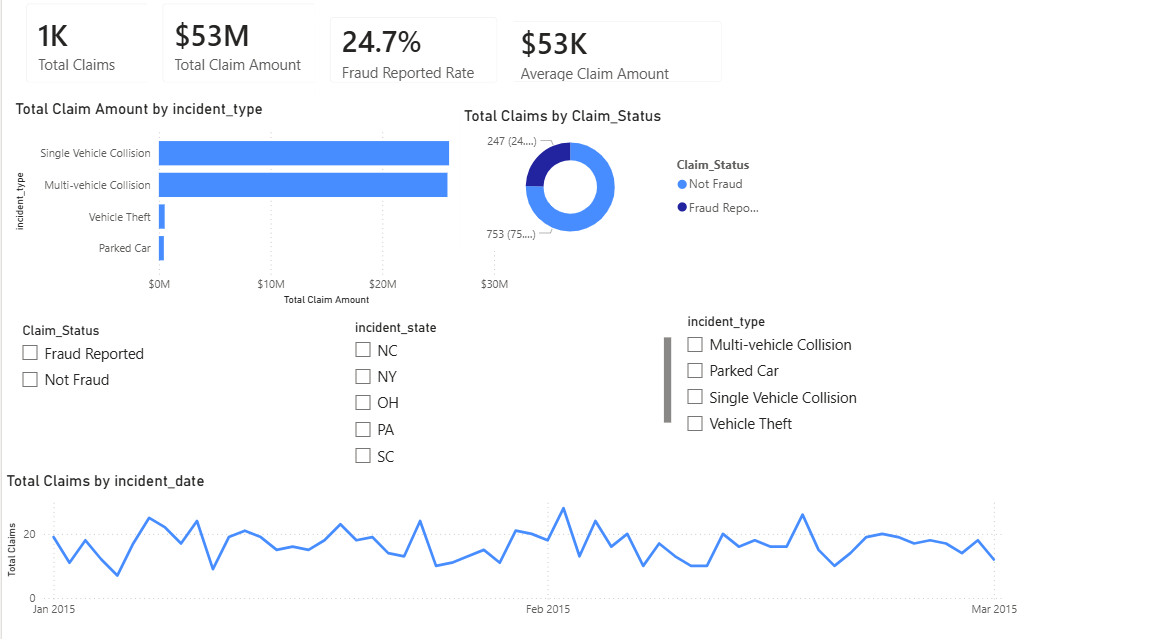

The page's visual inventory and layout, read from the dashboard file:
{"tool":"powerbi","page":{"name":"Executive Summary","canvas":[1280,720],"ordinal":0},"visuals":[{"type":"cardVisual","fields":{"Data":["Claims.Total Claims"]},"box":[10,0,171.2,121.2],"z":0},{"type":"cardVisual","fields":{"Data":["Claims.Total Claim Amount"]},"box":[158.8,0,206.2,121.2],"z":1000},{"type":"cardVisual","fields":{"Data":["Claims.Average Claim Amount"]},"box":[538.8,18.8,268.8,101.2],"z":2000},{"type":"cardVisual","fields":{"Data":["Claims.Fraud Reported Rate"]},"box":[342.5,15,218.8,106.2],"z":3000},{"type":"clusteredBarChart","fields":{"Category":["Claims.incident_type"],"Y":["Claims.Total Claim Amount"]},"box":[10,121.8,551.8,230.9],"z":4000},{"type":"donutChart","fields":{"Category":["Claims.Claim_Status"],"Y":["Claims.Total Claims"]},"box":[501.8,130,344.5,157.3],"z":5000},{"type":"lineChart","fields":{"Y":["Claims.Total Claims"],"Category":["Claims.incident_date"]},"box":[0,531.2,1120,168.8],"z":6000},{"type":"slicer","fields":{"Values":["Claims.Claim_Status"]},"box":[10,362.5,366.2,168.8],"z":7000},{"type":"slicer","fields":{"Values":["Claims.incident_type"]},"box":[740,352.5,365,167.5],"z":8000},{"type":"slicer","fields":{"Values":["Claims.incident_state"]},"box":[375,360,365,167.5],"z":9000}]}

Visuals, with their boxes in screenshot pixels (x1, y1, x2, y2), scaled from the page's 1280x720 canvas onto the 1158x639 screenshot:
cardVisual - Claims.Total Claims: x1=9 y1=0 x2=164 y2=108
cardVisual - Claims.Total Claim Amount: x1=144 y1=0 x2=330 y2=108
cardVisual - Claims.Average Claim Amount: x1=487 y1=17 x2=731 y2=106
cardVisual - Claims.Fraud Reported Rate: x1=310 y1=13 x2=508 y2=108
clusteredBarChart - Claims.incident_type x Claims.Total Claim Amount: x1=9 y1=108 x2=508 y2=313
donutChart - Claims.Claim_Status x Claims.Total Claims: x1=454 y1=115 x2=766 y2=255
lineChart - Claims.Total Claims x Claims.incident_date: x1=0 y1=471 x2=1013 y2=621
slicer - Claims.Claim_Status: x1=9 y1=322 x2=340 y2=472
slicer - Claims.incident_type: x1=669 y1=313 x2=1000 y2=462
slicer - Claims.incident_state: x1=339 y1=320 x2=669 y2=468
